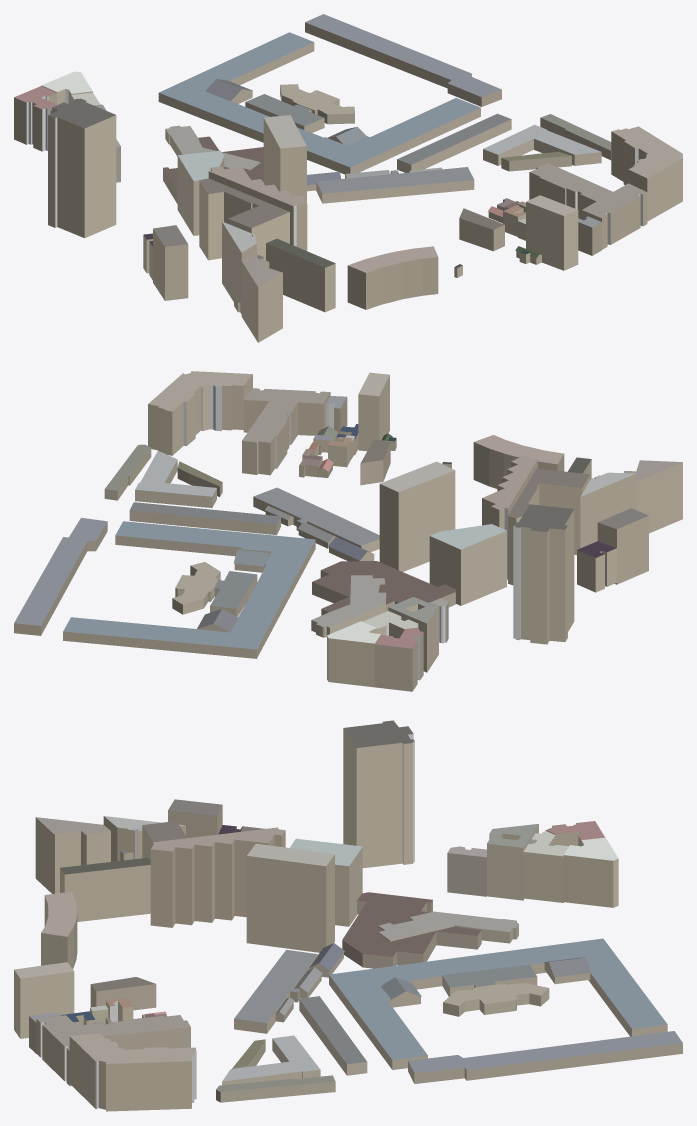
3 renders of one model, top to bottom at view 1: azimuth 30°, elevation 25°; view 2: azimuth 150°, elevation 25°; view 3: azimuth 270°, elevation 25°, orthographic. The views are drawn at different scales.
Visible parts, largest first — view 1: tuile; view 2: tuile; view 3: tuile.
Boxes of the visible parts, bbox=[...] form: tuile: bbox=[14, 14, 682, 342]; tuile: bbox=[14, 371, 682, 691]; tuile: bbox=[14, 720, 682, 1111].
Size of the model in its own units: 273 by 62.23 by 285.
